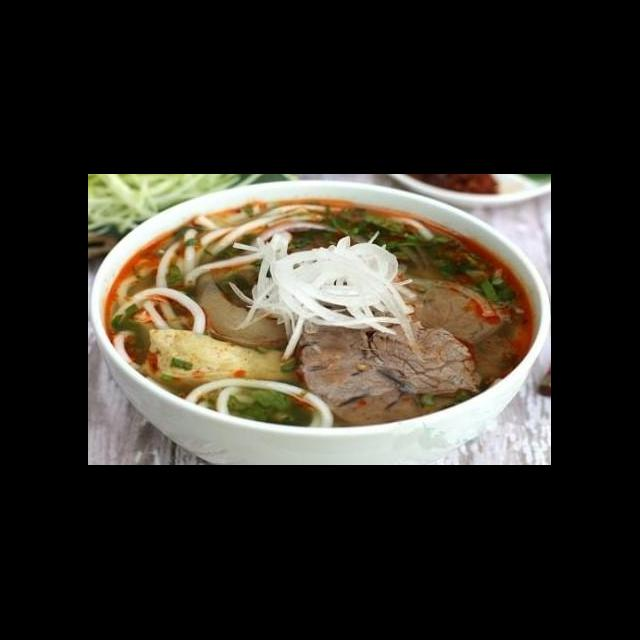bun: (153, 198, 350, 292), (180, 373, 338, 438), (110, 284, 210, 378)
bun bo: (119, 195, 509, 442)
thit bo: (294, 306, 426, 429), (358, 304, 486, 398), (390, 268, 514, 350)
